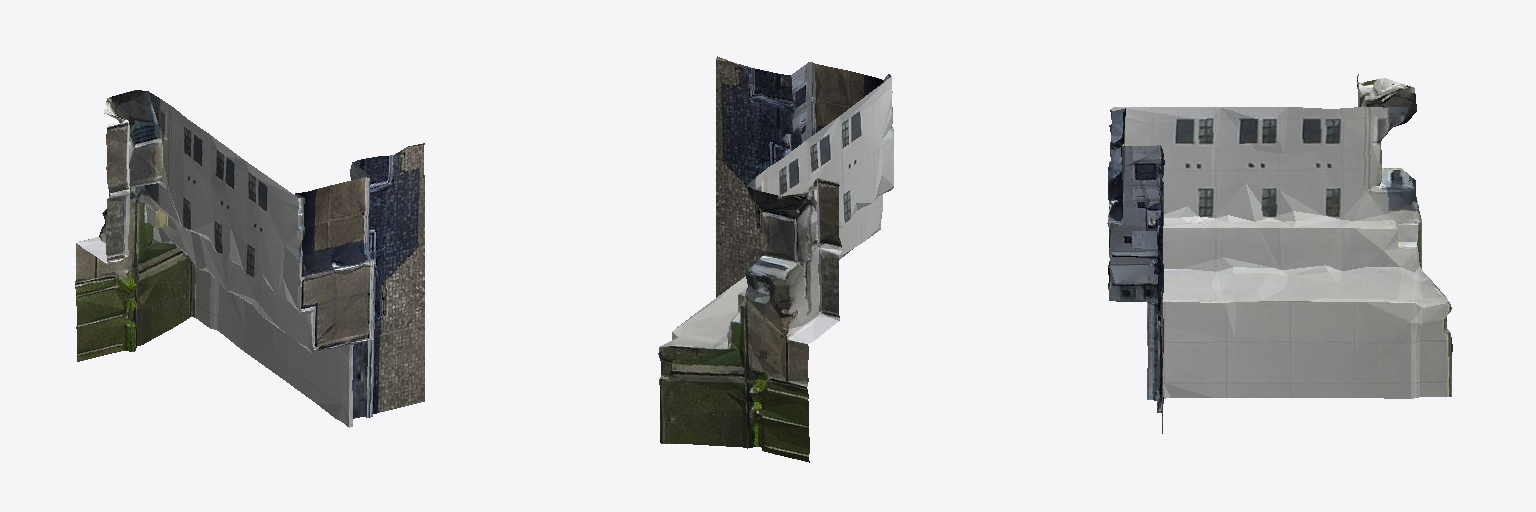
The picture shows the model from 3 angles: view 1: azimuth 30°, elevation 25°; view 2: azimuth 150°, elevation 25°; view 3: azimuth 270°, elevation 25°; orthographic projection.
Parts seen in each view (by area): view 1: obj_0; view 2: obj_0; view 3: obj_0.
Part boxes in pixels (left/top/right/bottom): obj_0: left=75, top=90, right=424, bottom=427; obj_0: left=658, top=56, right=893, bottom=462; obj_0: left=1107, top=74, right=1452, bottom=433.
Bounding box in the file's own units: 20.08 × 22.53 × 27.23.
1 materials, 1 textured.